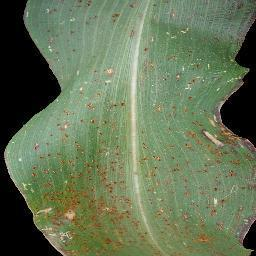Corn_Common_Rust: (0, 179, 142, 256), (6, 101, 130, 180), (143, 0, 256, 83), (141, 178, 256, 256), (138, 130, 256, 184), (17, 2, 140, 50), (33, 55, 119, 104), (140, 90, 248, 129)
